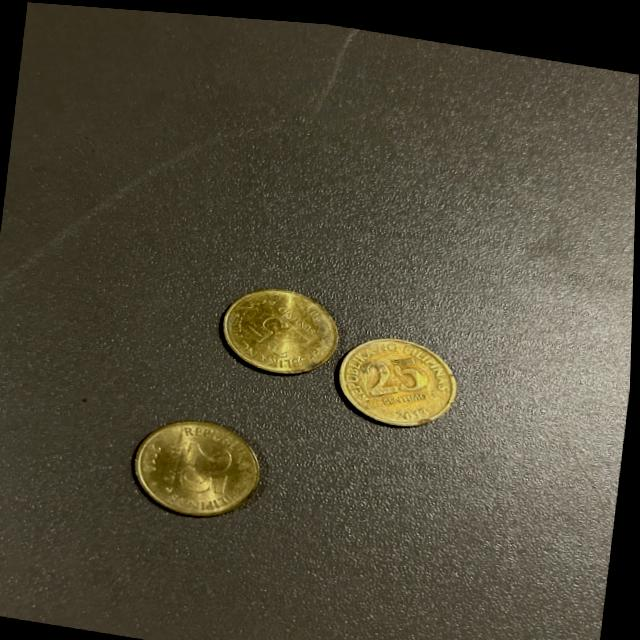25Cent_Old_Front: (129, 407, 270, 523), (335, 321, 462, 430)
